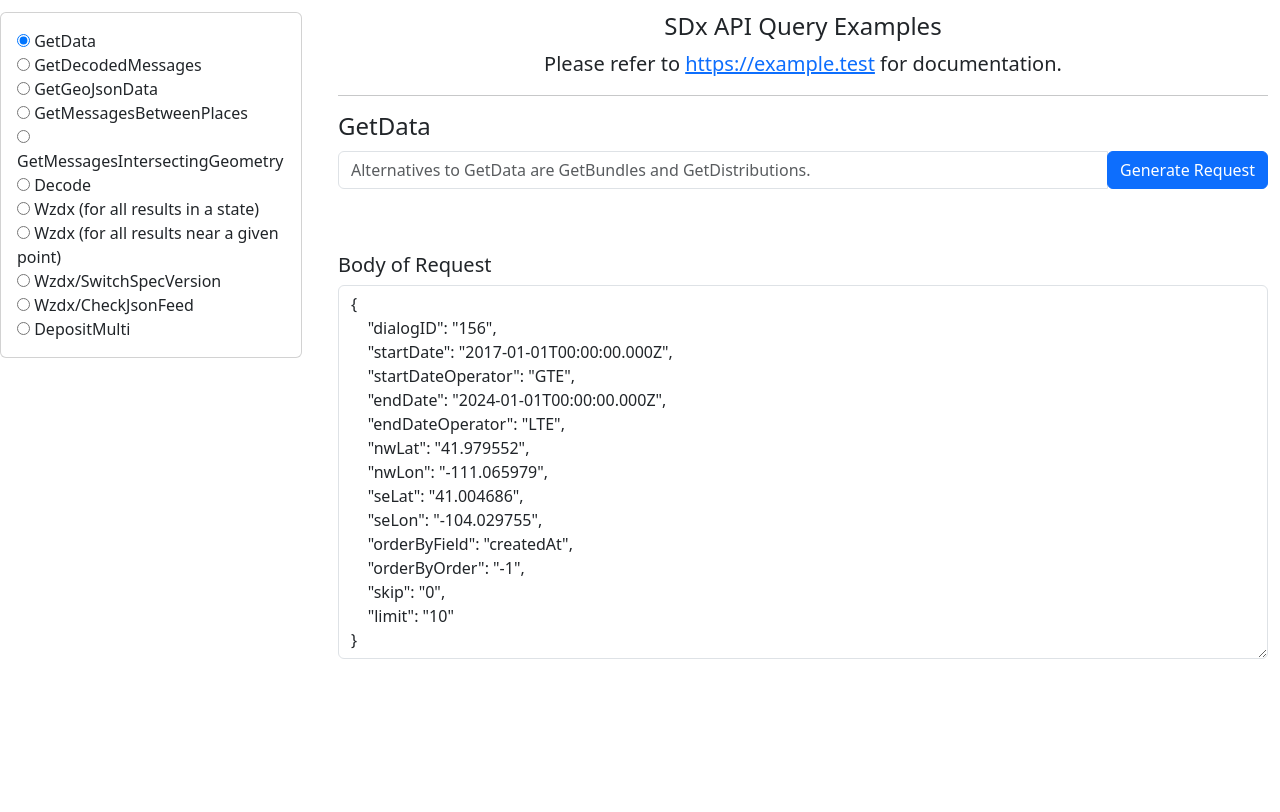
Test: App snapshots › matches the render with populated results
Step 1. Click the button "Generate Request" → [1188, 170], box [1107, 151, 1268, 189]
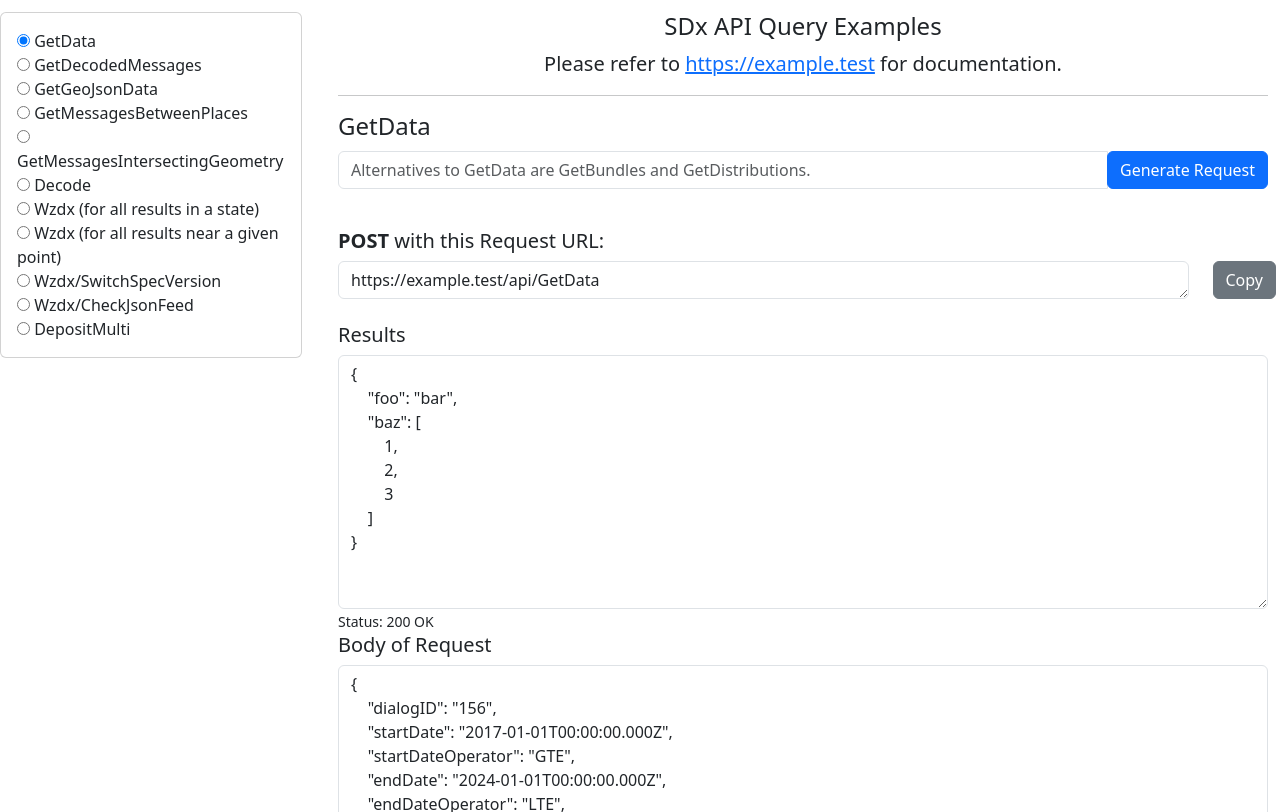
Result: the text "Status: 200 OK" is shown at [338, 612, 434, 631]
